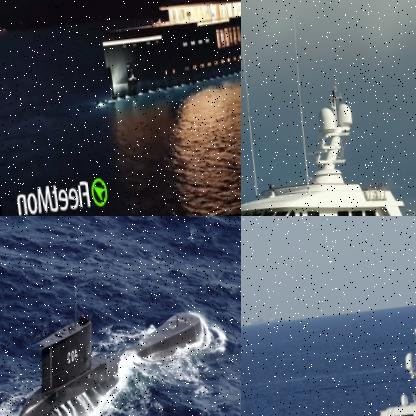Submarine: (0, 258, 217, 415)
Yacht: (241, 70, 415, 215), (279, 295, 415, 415), (84, 0, 240, 100)
